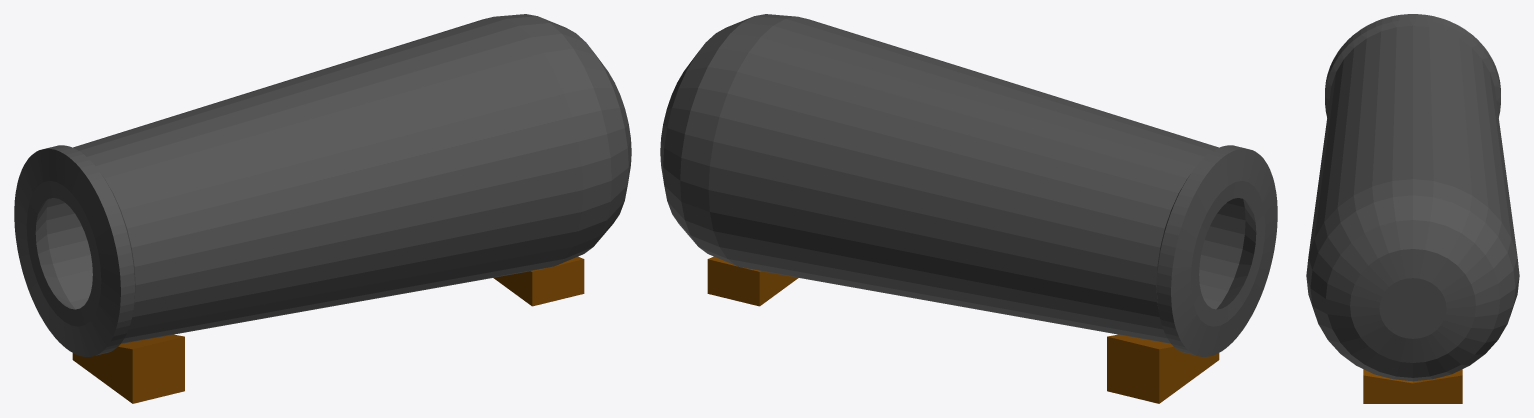
File: cannon.fbx
The picture shows the model from 3 angles, left to right: view 1: azimuth 30°, elevation 25°; view 2: azimuth 150°, elevation 25°; view 3: azimuth 270°, elevation 25°; orthographic projection. The views are drawn at different scales.
Parts seen in each view (by area): view 1: Cannon; view 2: Cannon; view 3: Cannon.
Part boxes in pixels (x1,y1,x2,y2): Cannon: (14,14,631,403); Cannon: (660,14,1277,403); Cannon: (1306,14,1519,403).
Bounding box in the file's own units: 576 × 262 × 240.
